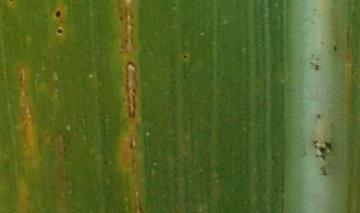tarspot: (55, 25, 65, 38), (181, 53, 191, 64), (55, 9, 64, 20)
